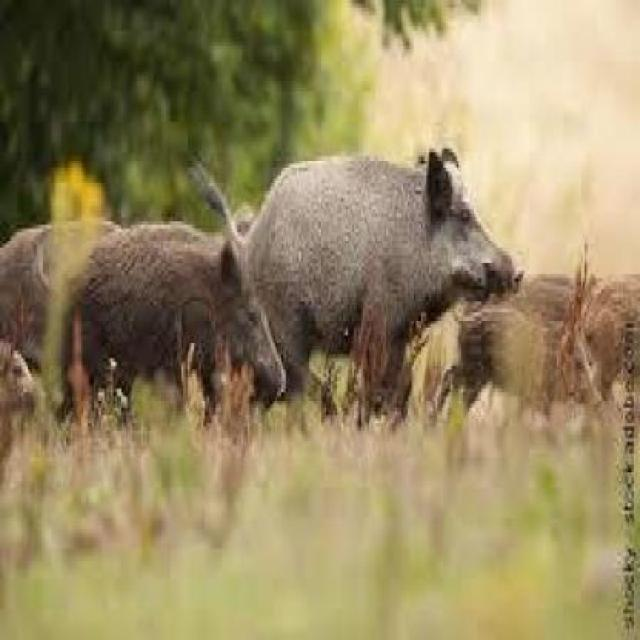wildboar: (218, 131, 530, 418), (27, 218, 287, 439), (0, 208, 146, 463), (475, 243, 640, 431), (432, 294, 608, 438)
